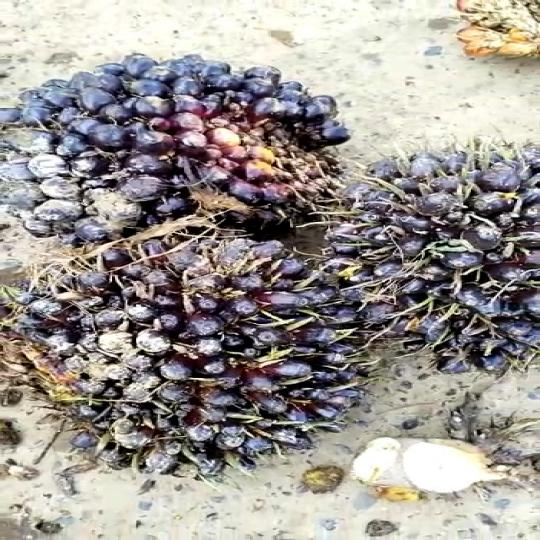mentah: (0, 233, 381, 486), (0, 43, 339, 253), (329, 157, 540, 363)
